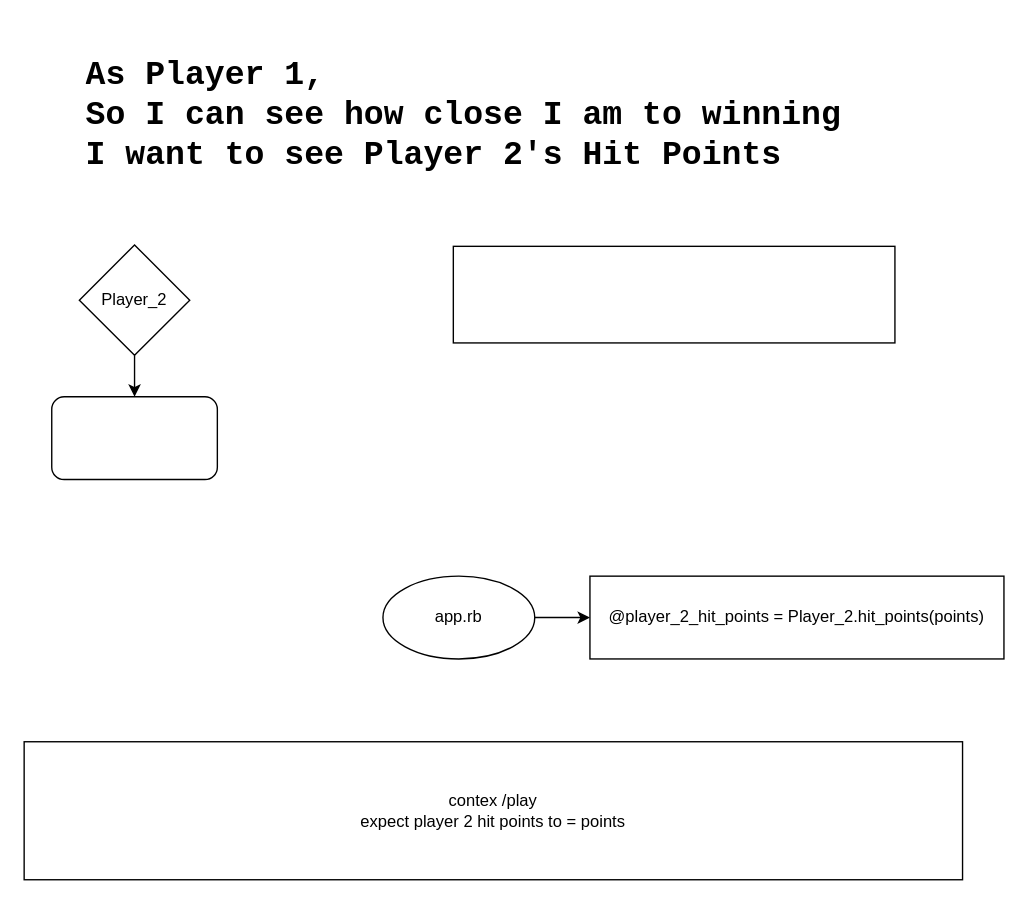
Image size: 1028x904. Some labels were removed from this diagram. Each missing label, with the box of its shape:
hit_points(points): (50, 395, 217, 480)
play.erb Player 2 hit points <%= @player2_hit_points=>: (452, 245, 895, 343)
